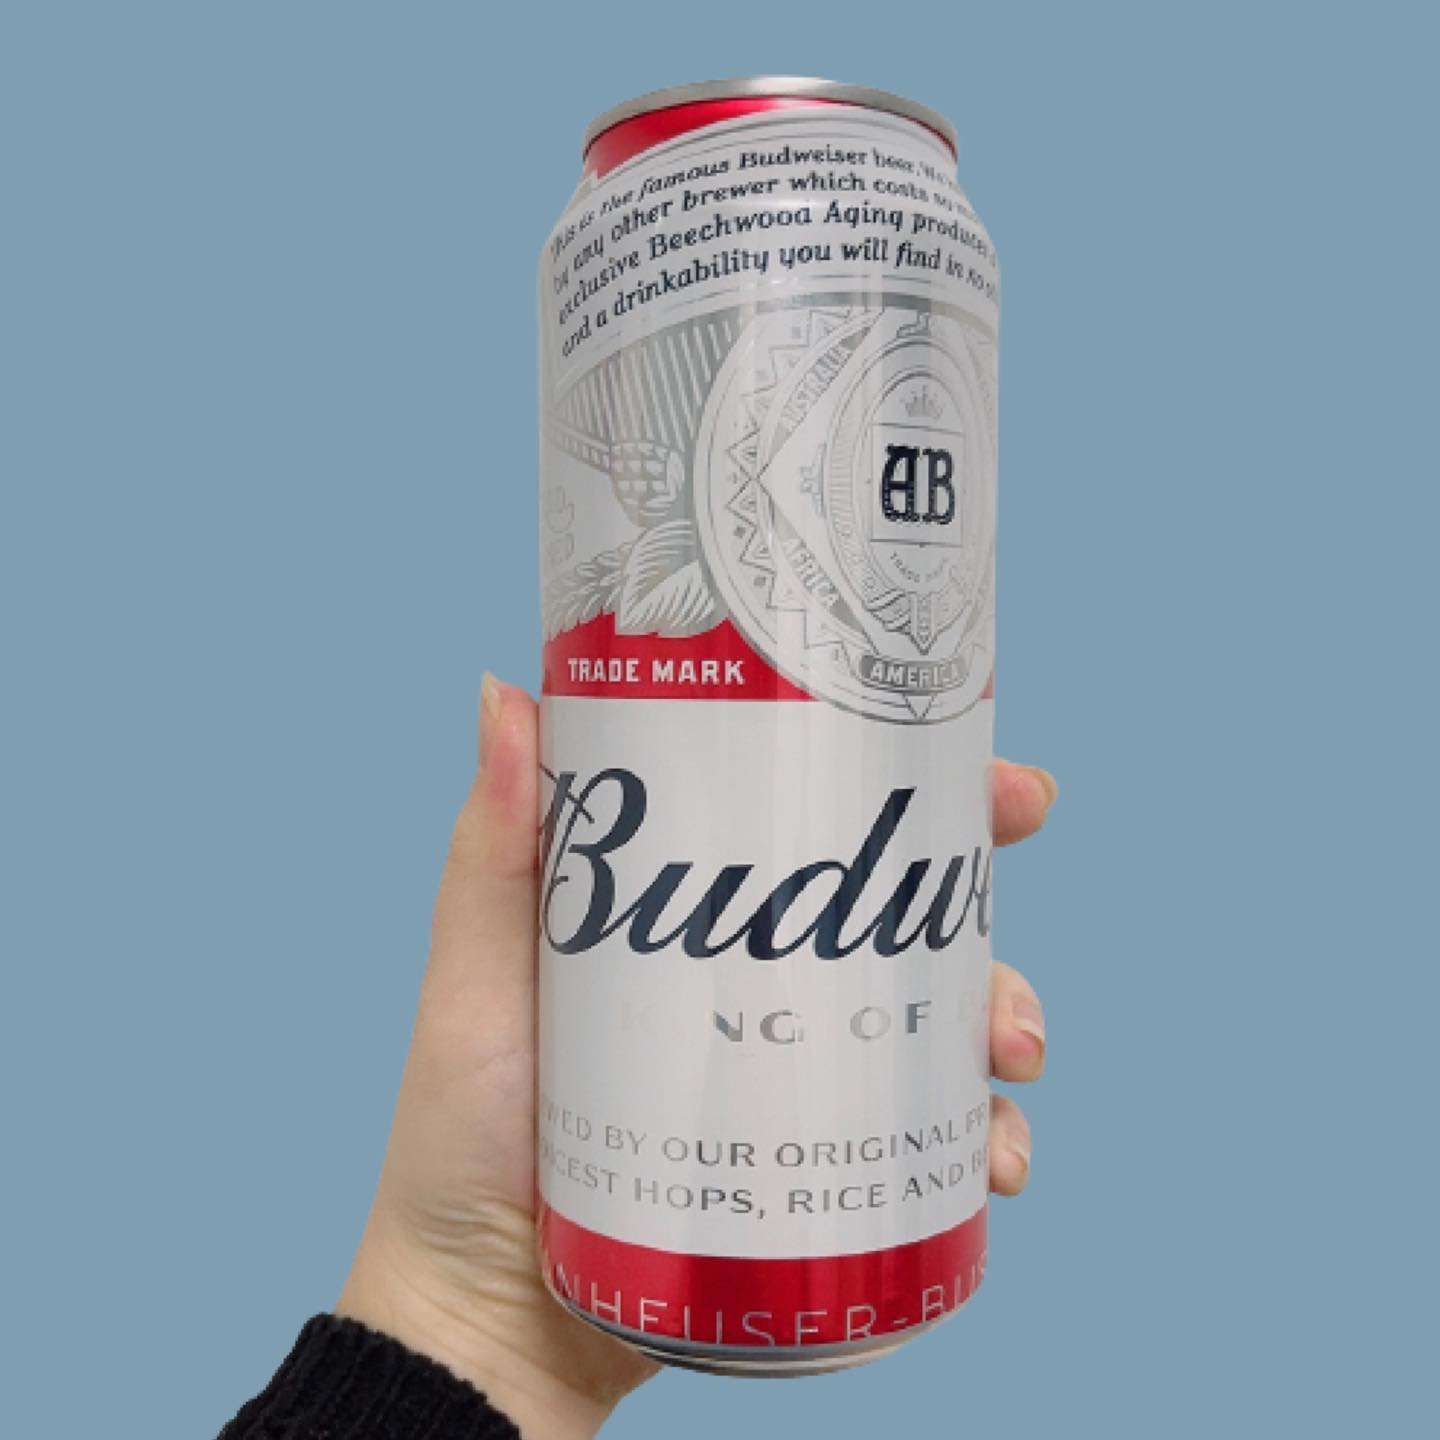alcohol: (526, 66, 1010, 1385)
